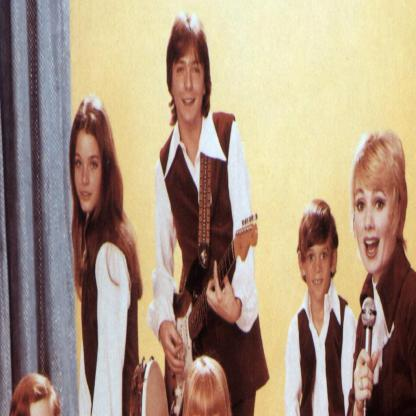face: (356, 164, 399, 273), (173, 37, 205, 125), (75, 131, 104, 215), (306, 222, 333, 298)
